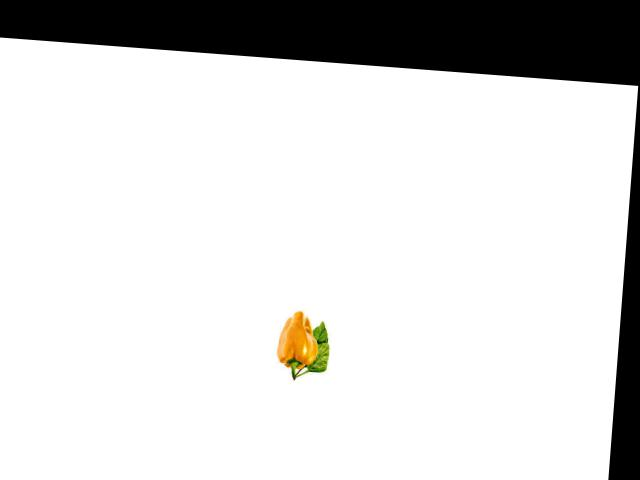bell_pepper: (271, 307, 321, 382)
